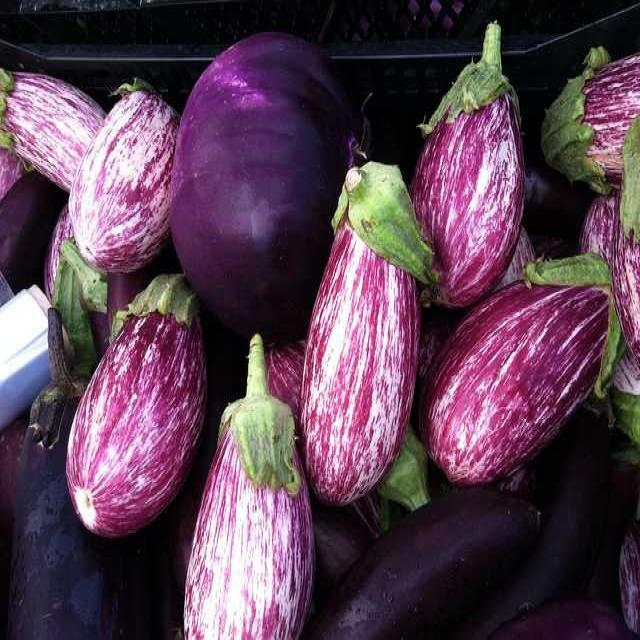Eggplant-r1Ob: (422, 253, 621, 485), (301, 162, 435, 505), (185, 335, 311, 638), (66, 274, 204, 536), (411, 22, 524, 308)
